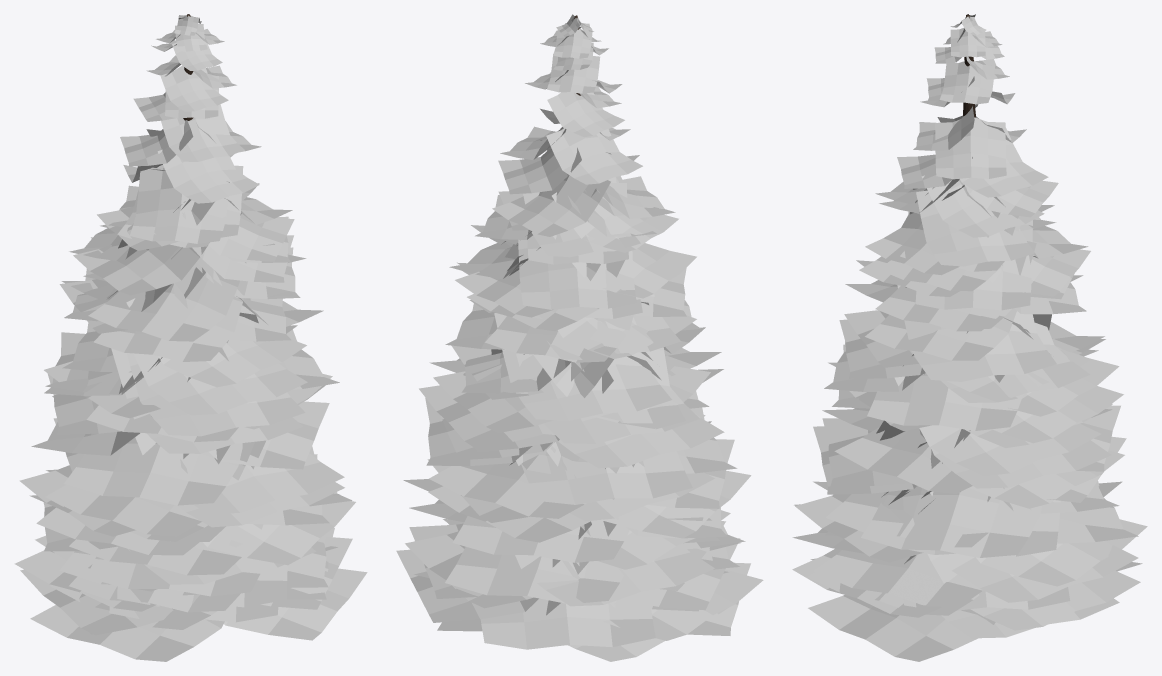
The model's file is treeUnity.fbx.
3 renders of one model, left to right at view 1: azimuth 30°, elevation 25°; view 2: azimuth 150°, elevation 25°; view 3: azimuth 270°, elevation 25°, orthographic. The views are drawn at different scales.
Parts seen in each view (by area): view 1: untitled.001; view 2: untitled.001; view 3: untitled.001.
Boxes of the visible parts, left/top/right/bottom form: untitled.001: left=14, top=15, right=367, bottom=661; untitled.001: left=396, top=14, right=763, bottom=661; untitled.001: left=792, top=14, right=1147, bottom=661.
Size of the model in its own units: 490 by 488 by 904.
